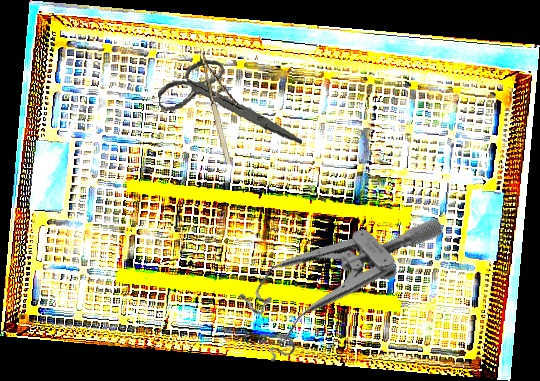Iris Scissors: (154, 49, 303, 162)
Needle Holder: (199, 48, 250, 166)
Speculum: (221, 159, 448, 380)
